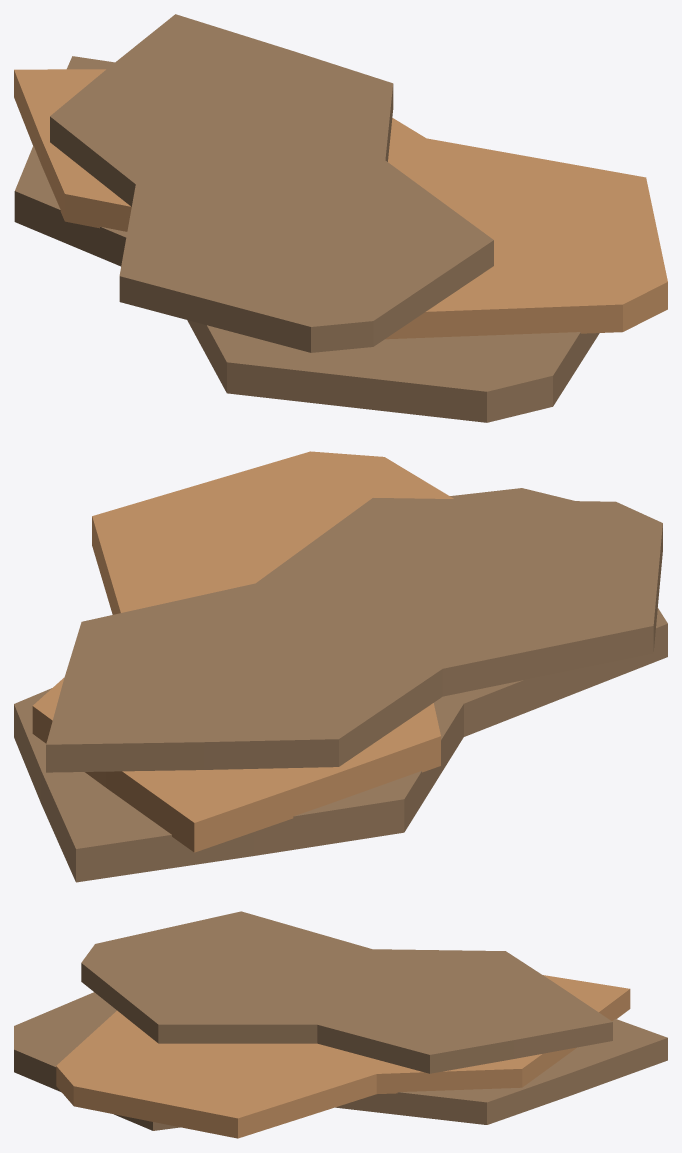
File: prop-fur-pelt-stack.fbx
The picture shows the model from 3 angles, top to bottom: view 1: azimuth 30°, elevation 25°; view 2: azimuth 150°, elevation 25°; view 3: azimuth 270°, elevation 25°; orthographic projection. The views are drawn at different scales.
Parts seen in each view (by area): view 1: prop-fur-pelt-stack; view 2: prop-fur-pelt-stack; view 3: prop-fur-pelt-stack.
Boxes of the visible parts, left/top/right/bottom form: prop-fur-pelt-stack: left=14, top=14, right=667, bottom=422; prop-fur-pelt-stack: left=14, top=451, right=667, bottom=882; prop-fur-pelt-stack: left=14, top=911, right=667, bottom=1138.
Bounding box in the file's own units: 31.78 × 4.9 × 47.
